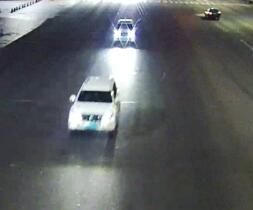car: (66, 74, 122, 135), (113, 17, 135, 46), (197, 5, 223, 21)
